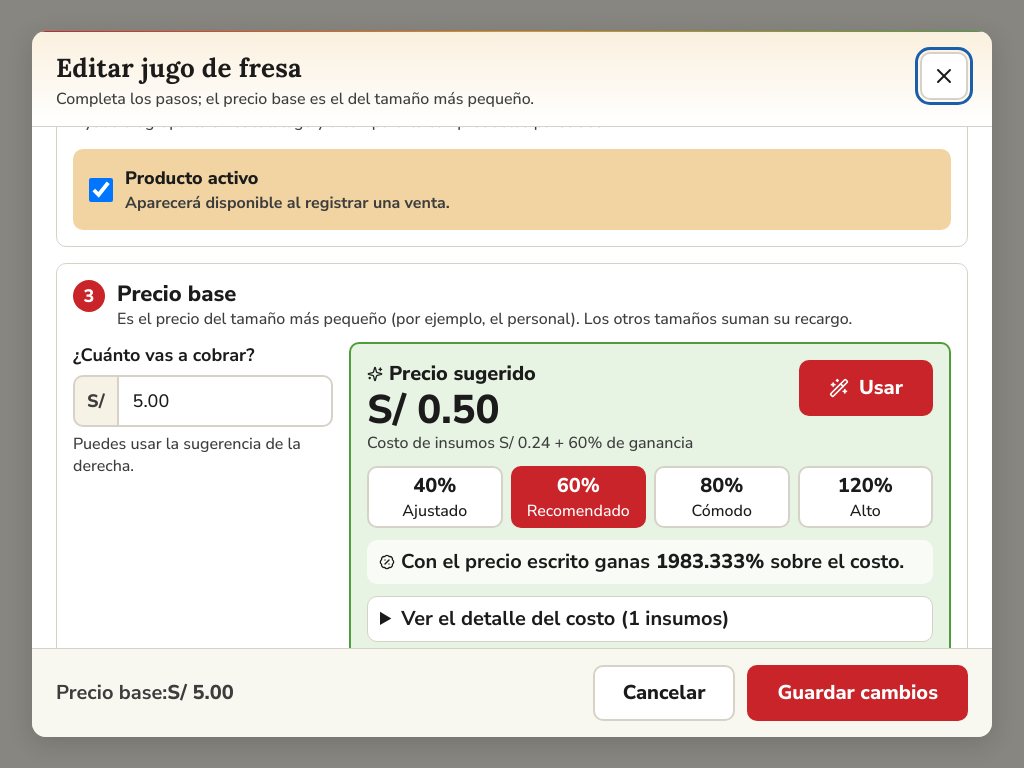
Scenario: ProductFormModal › el botón Usar escribe la sugerencia en el precio base
(page scrolled)
Expected: the text "S/ 0.50" is shown, top-left (367, 383), bottom-right (500, 437)
Click the button "Usar": point(866, 388) top-left (799, 360), bottom-right (933, 416)
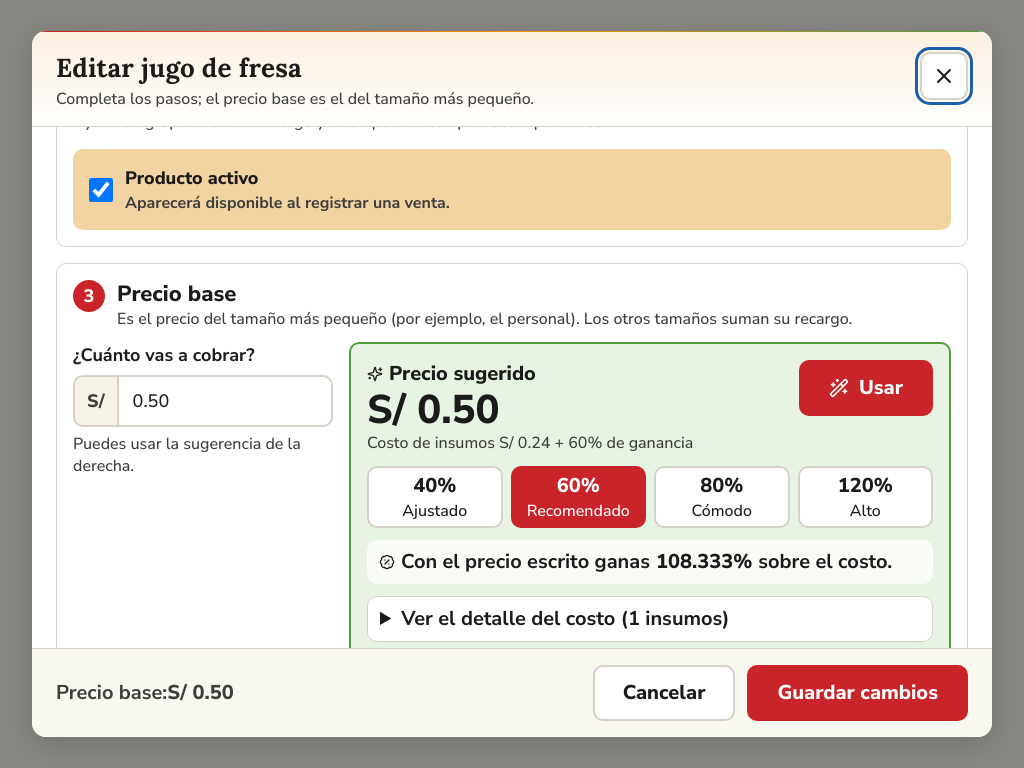
Now the field labelled "¿Cuánto vas a cobrar?" holds "0.50", box top-left (117, 375), bottom-right (333, 427)
